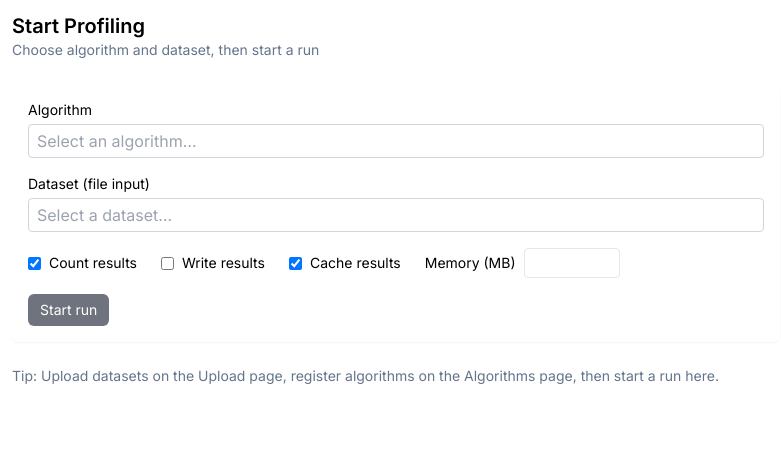
RunProfile › keeps the primary action disabled until required algorithm and dataset are selected
Expected: the button "Start run" is disabled, [28,294,109,326]
Expected: the field with placeholder "Select a dataset…" is shown, [28,198,764,232]
Focus the field with placeholder "Select an algorithm…" at (396, 141), box [28,124,764,158]
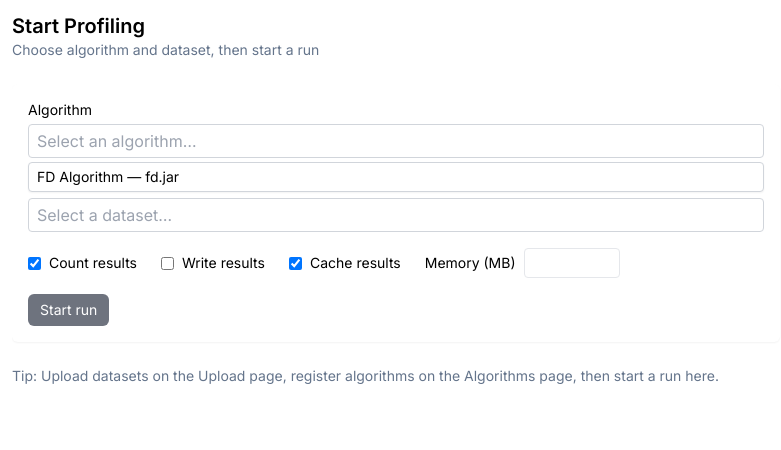
Click the button "FD Algorithm — fd.jar" at (108, 176), box [29,163,763,191]
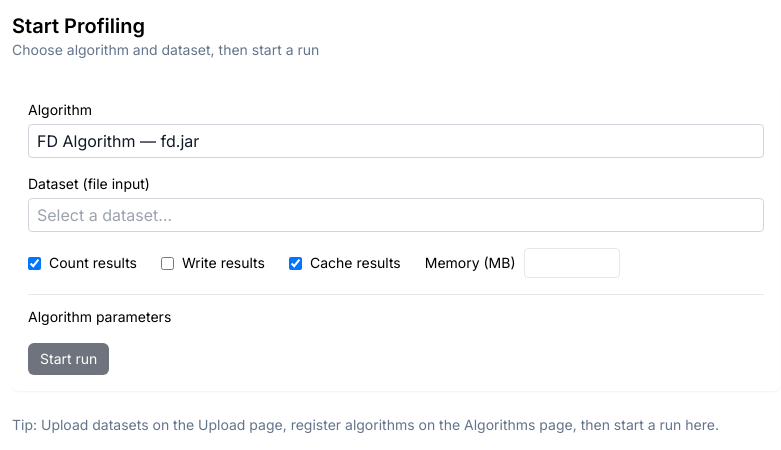
Expected: the button "Start run" is disabled, [28,343,109,375]
Focus the field with placeholder "Select a dataset…" at (396, 215), box [28,198,764,232]
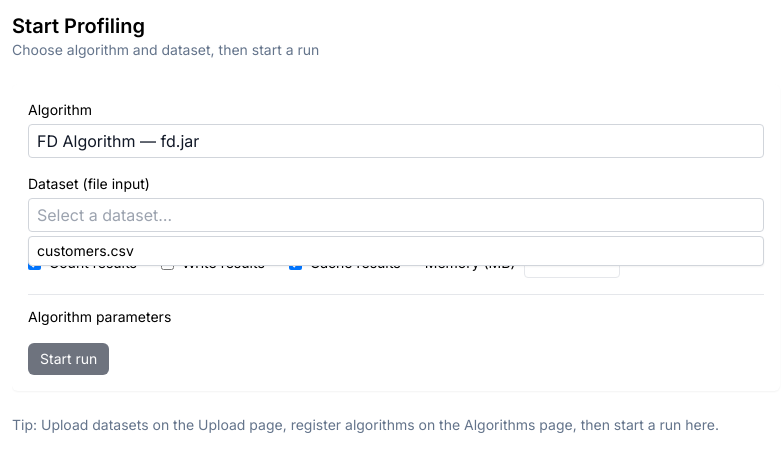
Click the button "customers.csv" at (85, 250), box [29,237,763,265]
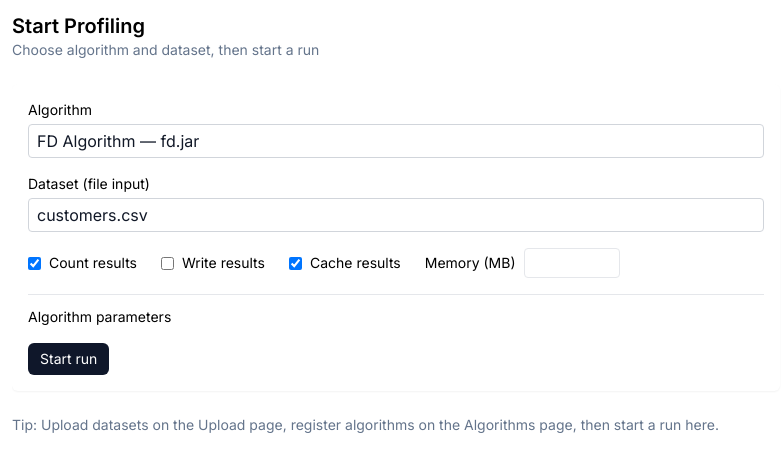
Result: the button "Start run" is enabled at [28,343,109,375]
